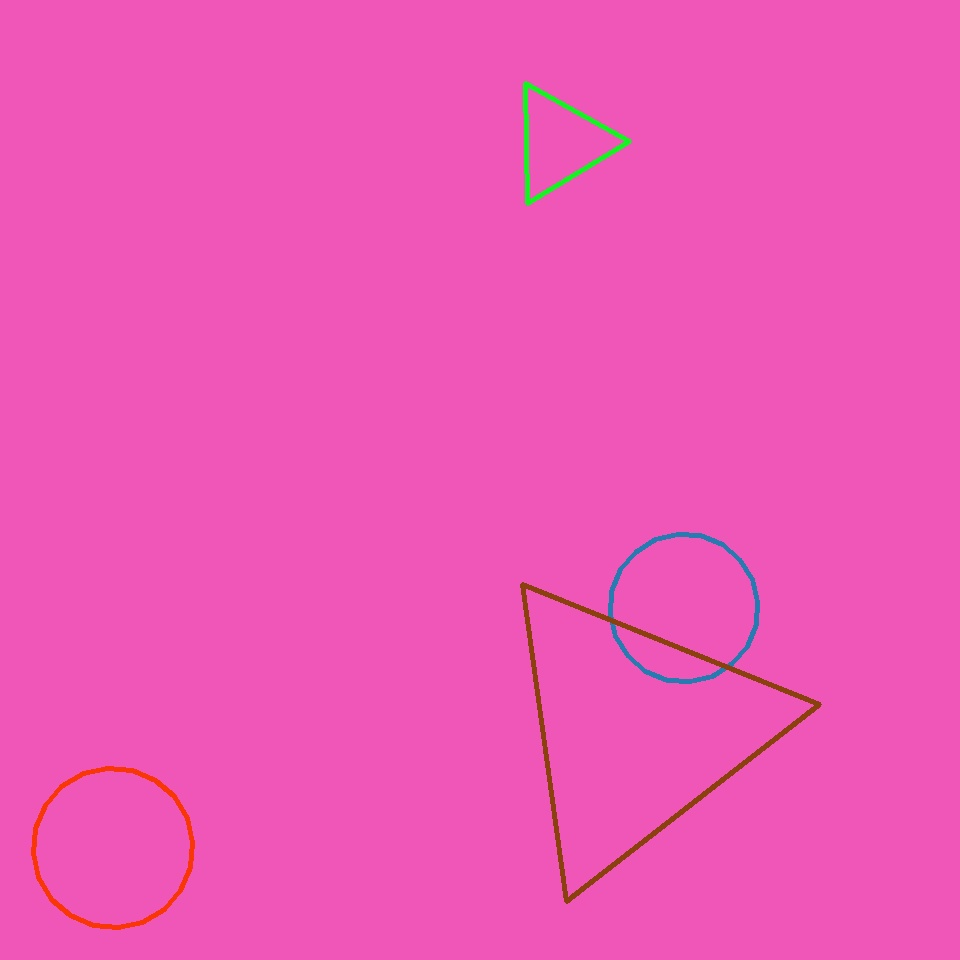circle: (488, 571, 784, 888), (509, 83, 613, 203)
triangle: (34, 768, 192, 927), (610, 534, 758, 682)
